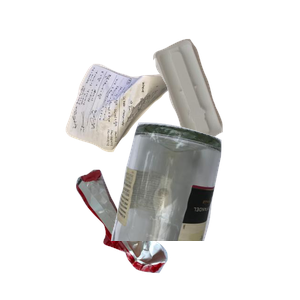glass: (109, 120, 300, 300)
paper: (63, 61, 242, 206)
plastic: (150, 36, 300, 173)
trash: (74, 167, 235, 300)
